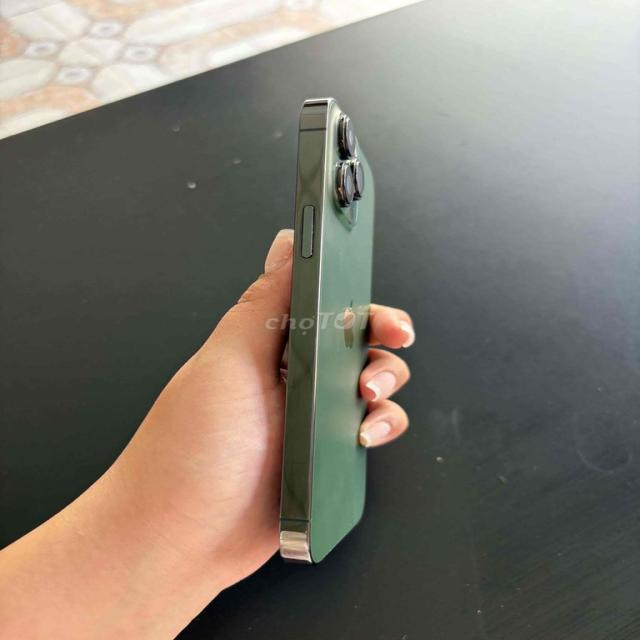gen_12_13: (270, 84, 417, 570)
